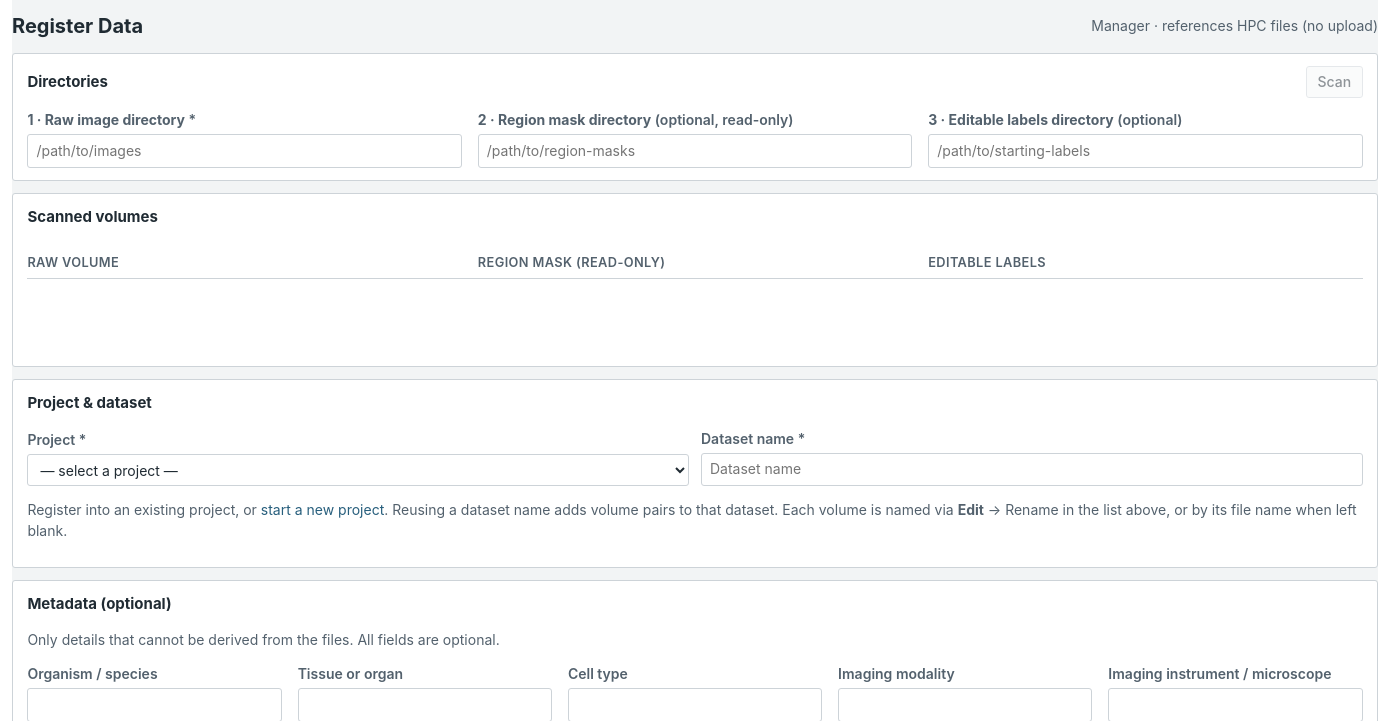
Register Data volume naming › keeps rename inputs collapsed until Edit is pressed
Type "/data/heart/image" into the field labelled "1 · Raw image directory *" at x=245, y=151, box x1=27 y1=134 x2=462 y2=168
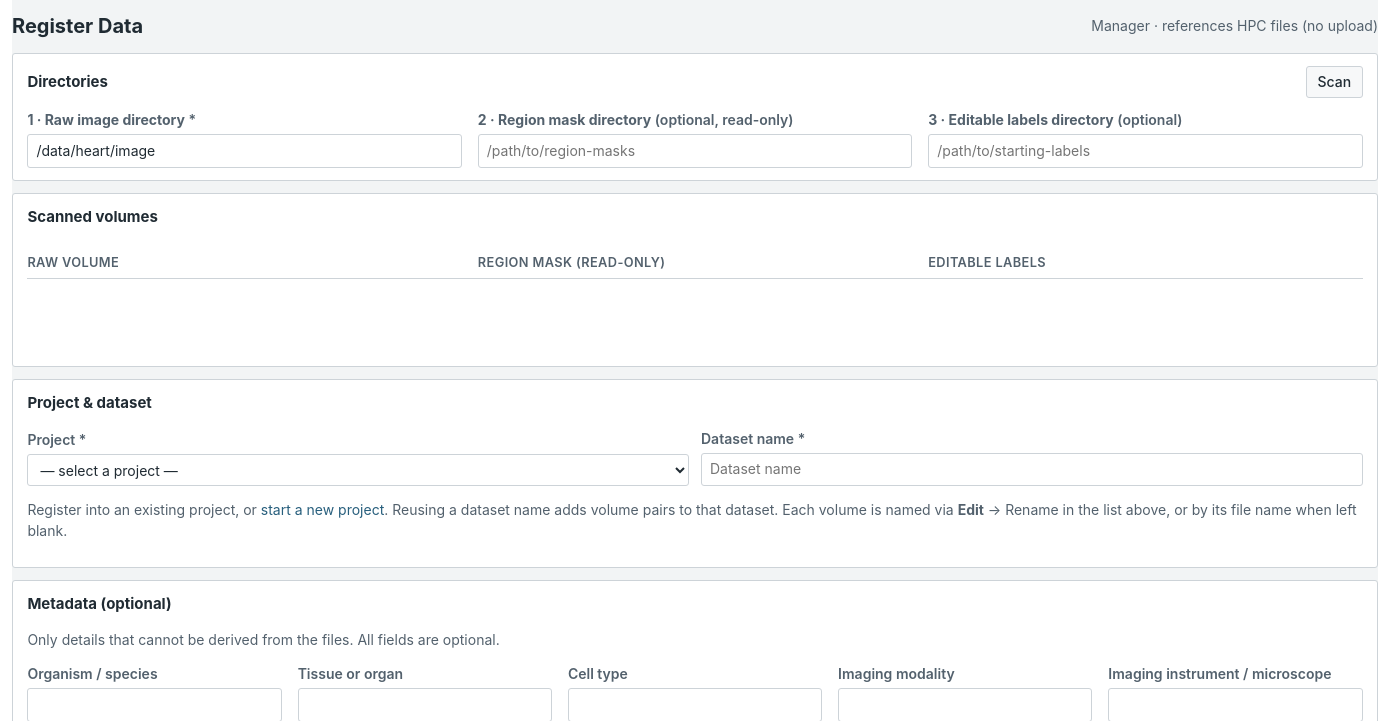
Click the button "Scan" at x=1334, y=82, box x1=1306 y1=66 x2=1363 y2=98
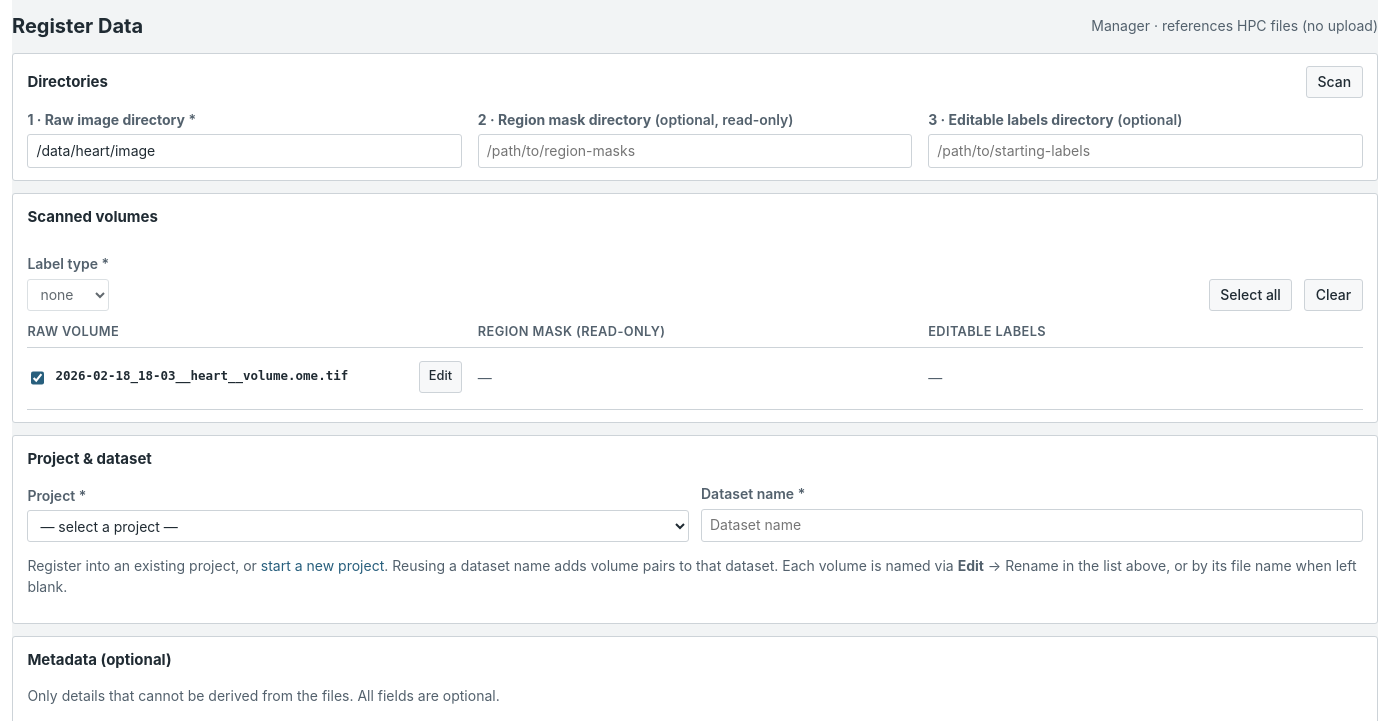
expect the heading "Scanned volumes" is shown: met, box x1=27 y1=206 x2=158 y2=227
Select "Heart project" in the dropdown labelled "Project *" at x=358, y=526, box x1=27 y1=510 x2=689 y2=542
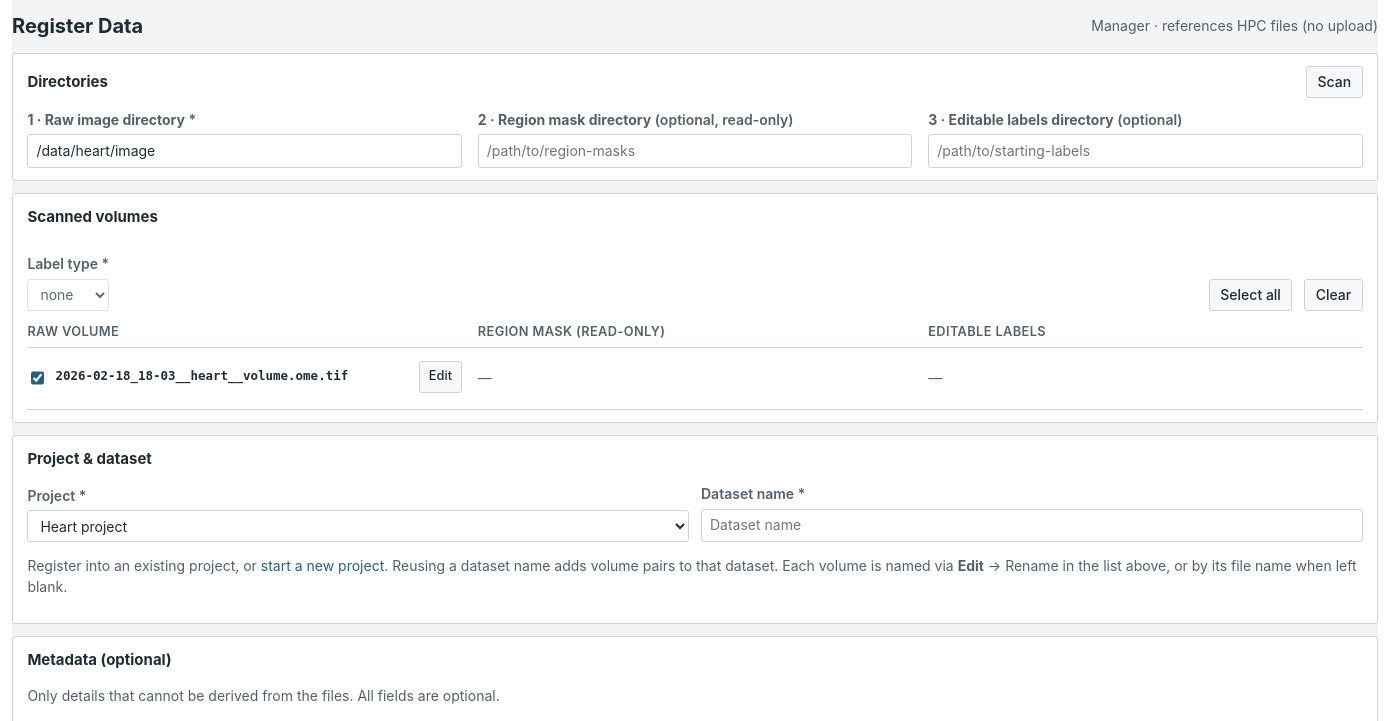
expect the field labelled "Rename volume" is not shown: met
Click the button "Edit" at x=440, y=377, box x1=419 y1=361 x2=462 y2=393
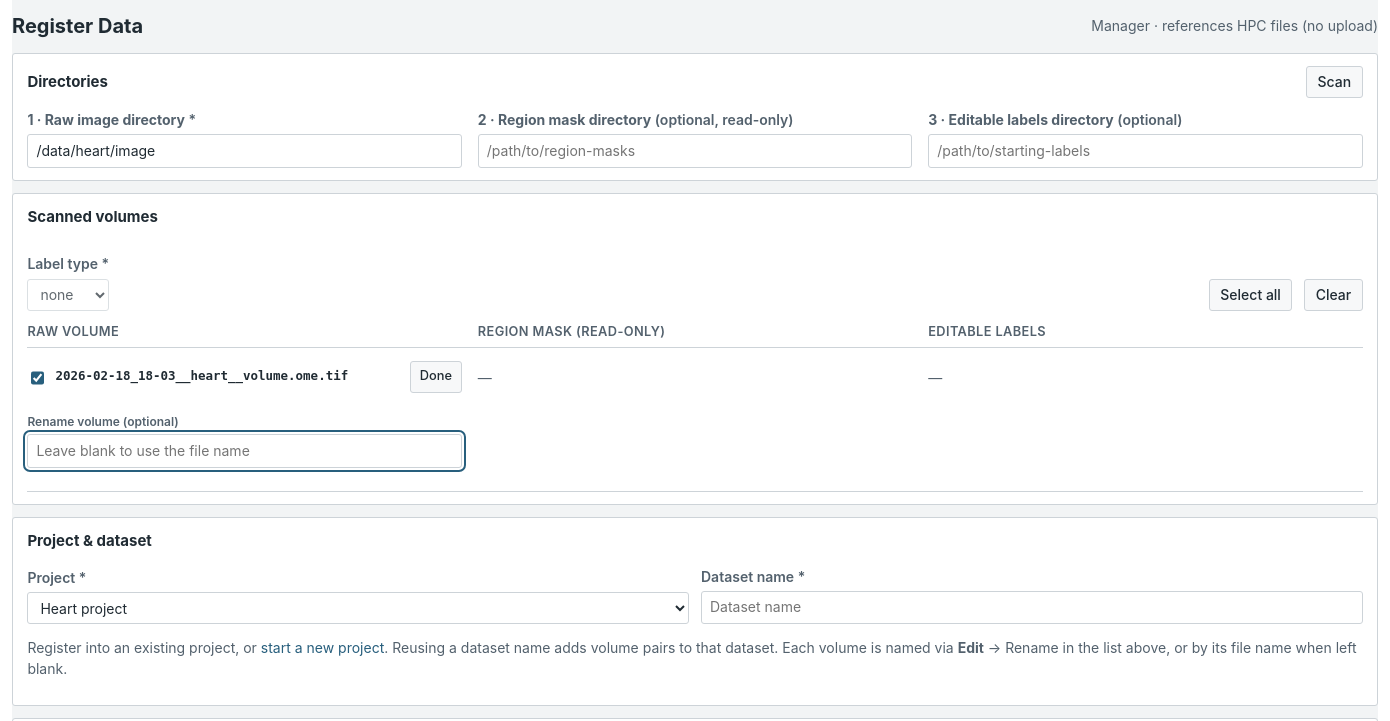
expect the field labelled "Rename volume (optional)" is shown: met, box x1=27 y1=434 x2=462 y2=468
Click the button "Done" at x=436, y=377, box x1=410 y1=361 x2=462 y2=393
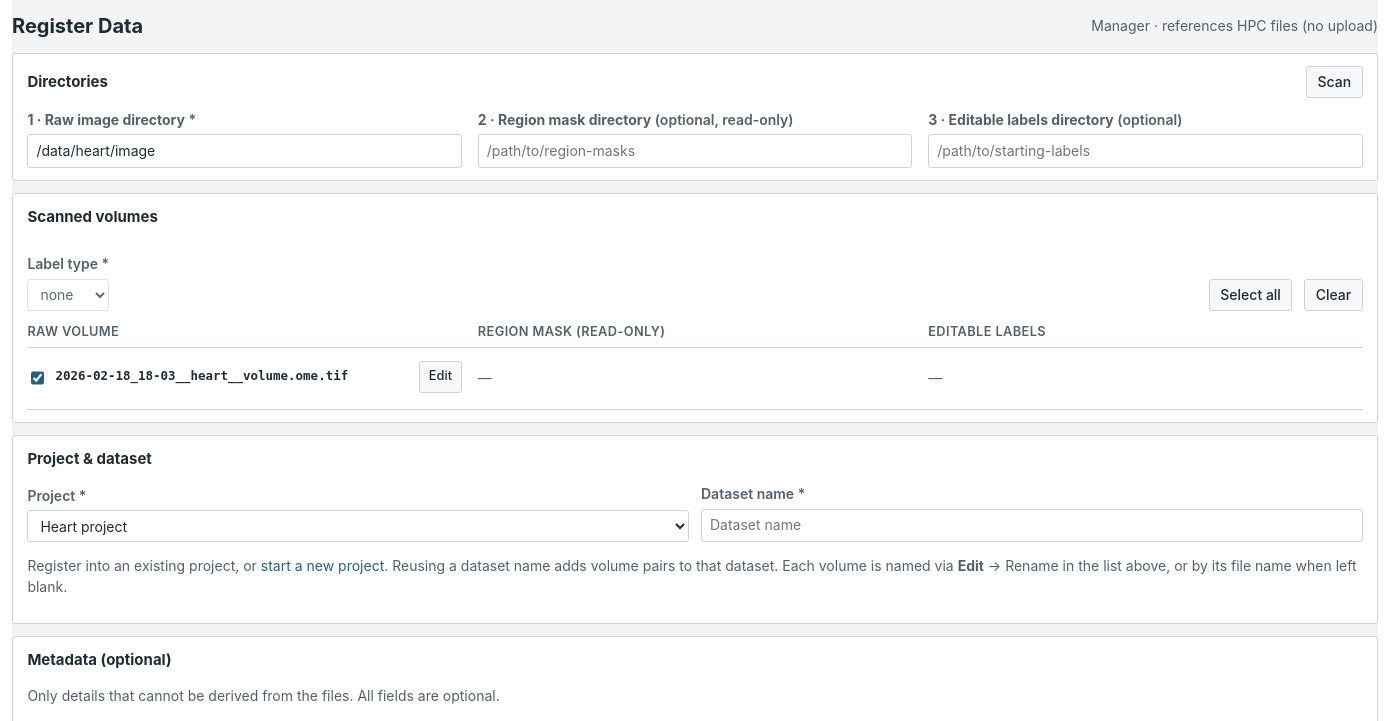
expect the text labelled "Rename volume" is gone: met
